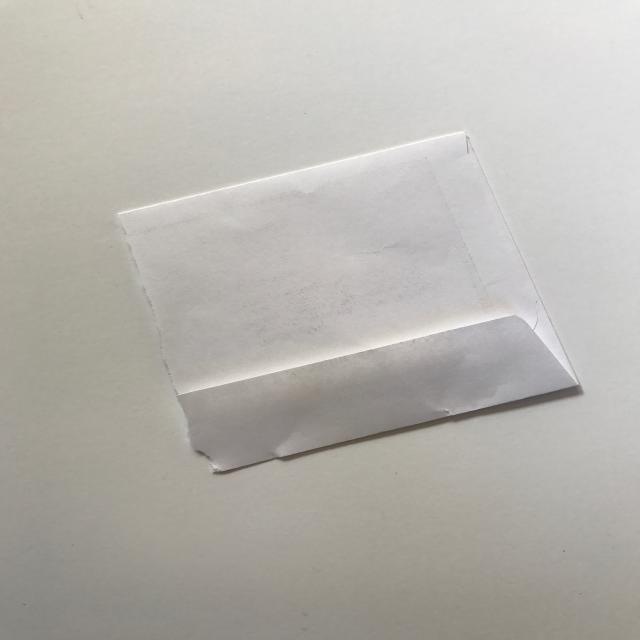paper: (81, 115, 601, 485)
